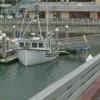Boat: (9, 30, 63, 65)
